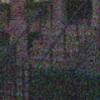stairs: (1, 24, 98, 98)
